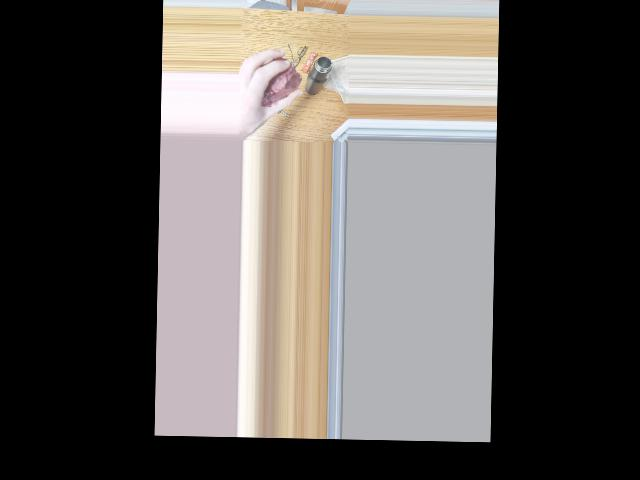onion: (259, 58, 298, 106)
